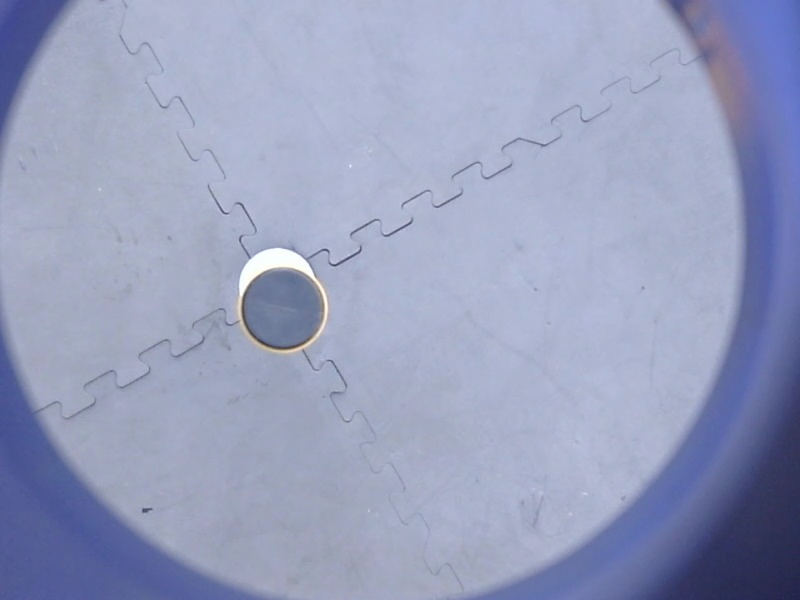tip: (233, 262, 334, 359)
